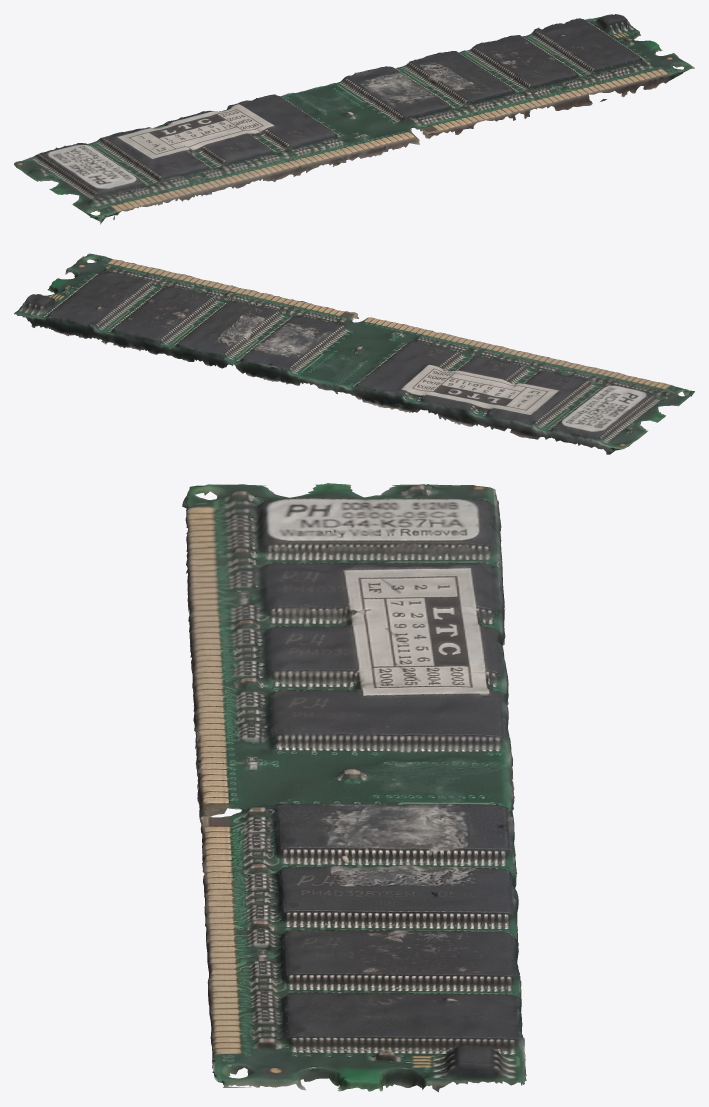
Rendered from RAM1v3.fbx.
The picture shows the model from 3 angles, top to bottom: view 1: azimuth 30°, elevation 25°; view 2: azimuth 150°, elevation 25°; view 3: azimuth 270°, elevation 25°; orthographic projection. The views are drawn at different scales.
Visible parts, largest first — view 1: Group_Global; view 2: Group_Global; view 3: Group_Global.
Part boxes in pixels (x1,y1,x2,y2): Group_Global: (14,14,694,224); Group_Global: (14,253,694,454); Group_Global: (182,483,526,1092).
Bounding box in the file's own units: 584 × 21.39 × 143.
